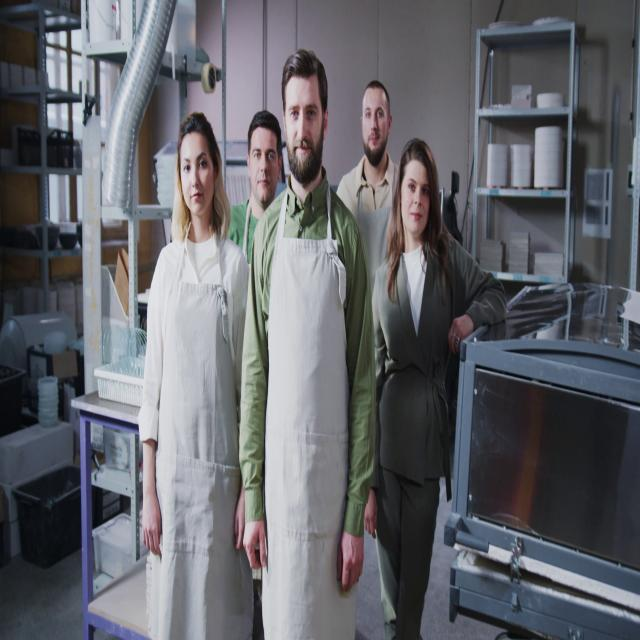not-gloved: (336, 529, 364, 592), (141, 492, 162, 557), (242, 518, 268, 570), (448, 314, 473, 356), (233, 488, 245, 548), (364, 491, 379, 537)
